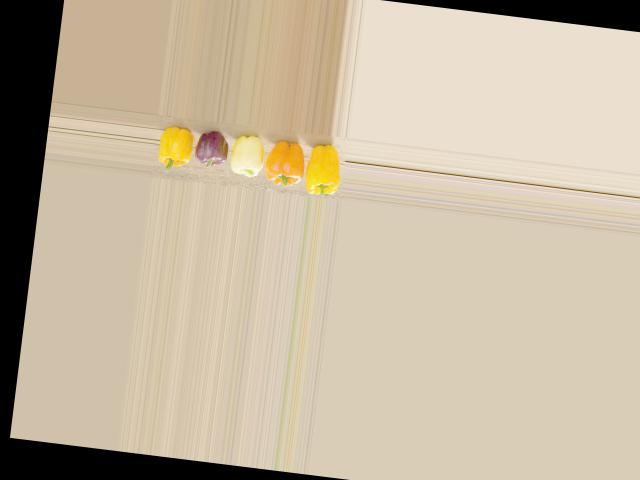bell_pepper: (152, 116, 193, 175)
